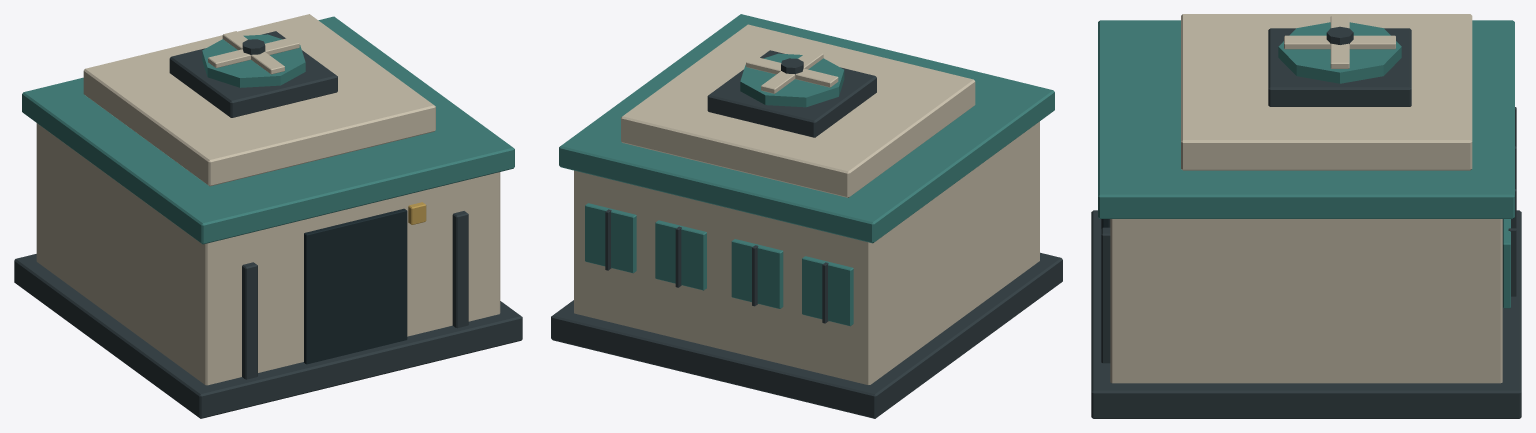
File: factory-lod0.017dc93df82b.glb
The picture shows the model from 3 angles, left to right: view 1: azimuth 30°, elevation 25°; view 2: azimuth 150°, elevation 25°; view 3: azimuth 270°, elevation 25°; orthographic projection. The views are drawn at different scales.
Parts seen in each view (by area): view 1: body, fan; view 2: body, fan; view 3: body, fan.
Part boxes in pixels (x1,y1,x2,y2): body: (14,14,522,418); fan: (208,31,299,74); body: (551,14,1062,418); fan: (746,50,838,93); body: (1091,14,1521,418); fan: (1284,16,1395,68).
Bounding box in the file's own units: 3.84 × 2.92 × 3.84.
